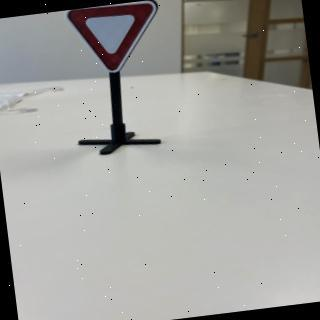sign_yield: (64, 1, 168, 81)
